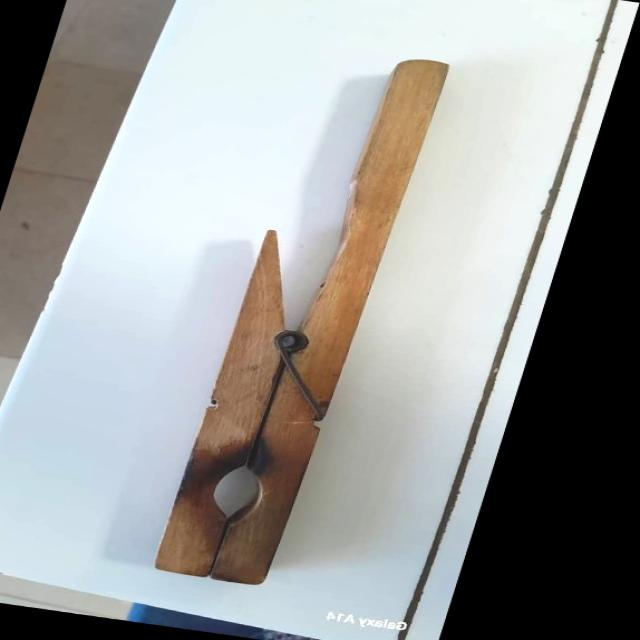Test Tube Holder: (140, 29, 455, 598)
